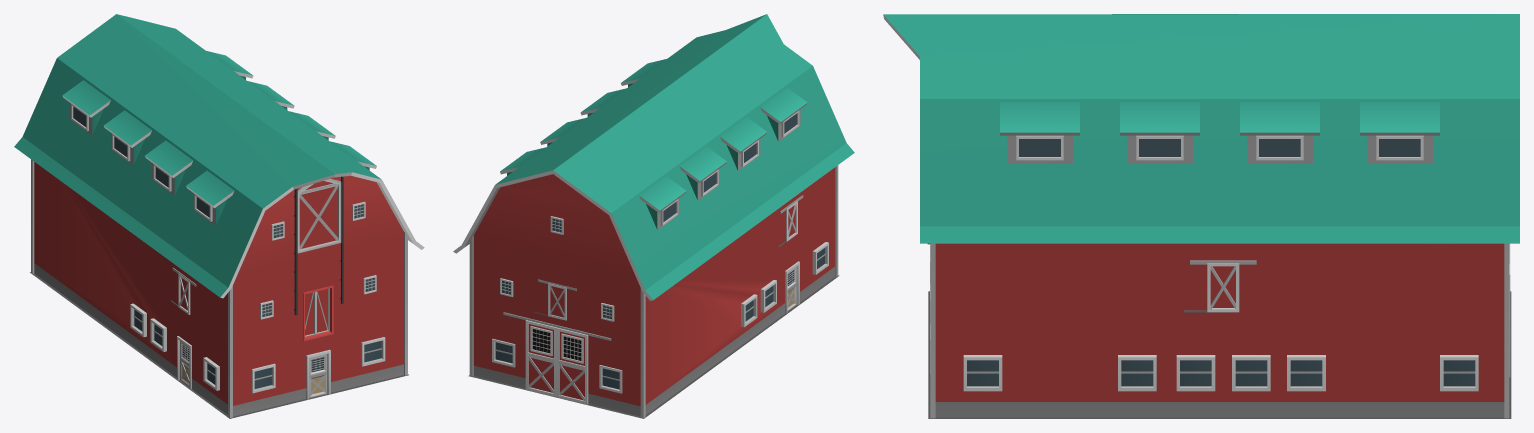
The model's file is hangar_006.glb.
3 views of the same model, side by side, from view 1: azimuth 30°, elevation 25°; view 2: azimuth 150°, elevation 25°; view 3: azimuth 270°, elevation 25° (orthographic). The views are drawn at different scales.
Parts seen in each view (by area): view 1: hangar_006; view 2: hangar_006; view 3: hangar_006.
Part boxes in pixels (x1,y1,x2,y2): hangar_006: (14, 14, 424, 418); hangar_006: (453, 14, 854, 418); hangar_006: (883, 14, 1519, 418).
Size of the model in its own units: 12.15 by 13.32 by 22.48.
1 material, 1 textured.
